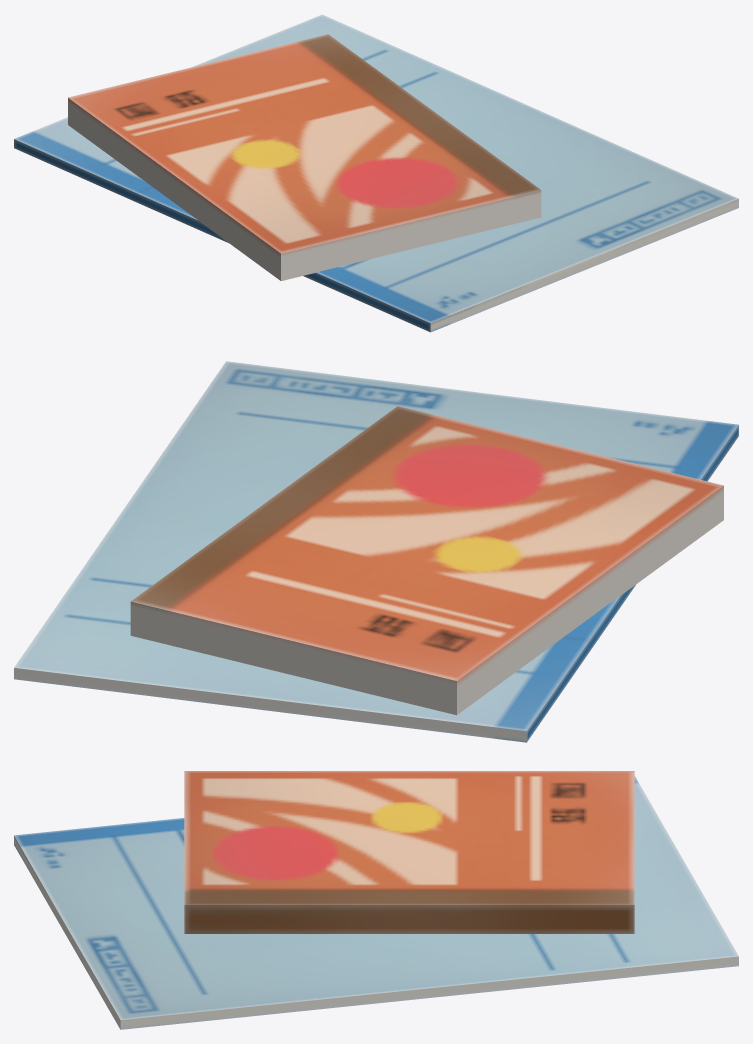
Rendered from Textbook_01_01.fbx.
The picture shows the model from 3 angles, top to bottom: view 1: azimuth 30°, elevation 25°; view 2: azimuth 150°, elevation 25°; view 3: azimuth 270°, elevation 25°; orthographic projection. The views are drawn at different scales.
Parts seen in each view (by area): view 1: textbook06_01, textbook07_01; view 2: textbook06_01, textbook07_01; view 3: textbook06_01, textbook07_01.
Part boxes in pixels (bbox=[...]): textbook06_01: bbox=[68, 34, 541, 280]; textbook07_01: bbox=[14, 14, 738, 332]; textbook06_01: bbox=[130, 406, 723, 715]; textbook07_01: bbox=[14, 361, 738, 742]; textbook06_01: bbox=[184, 771, 634, 933]; textbook07_01: bbox=[14, 776, 738, 1029].
Bounding box in the file's own units: 27.43 × 1.98 × 33.83.
